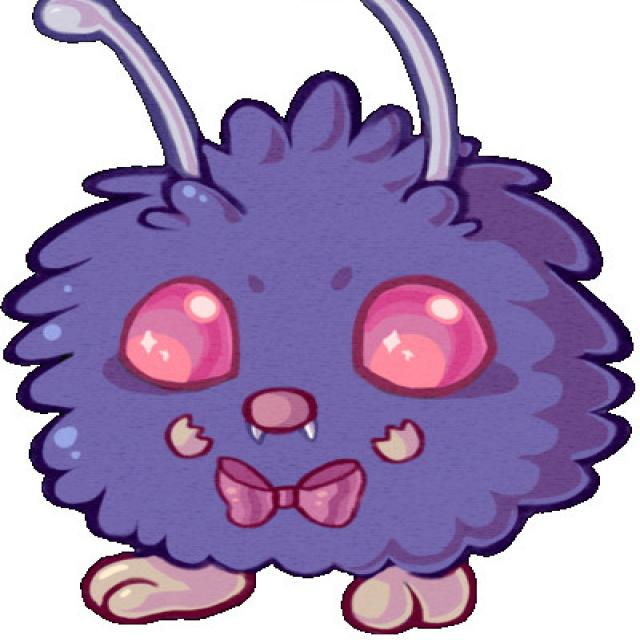Venonat: (0, 98, 593, 628)
